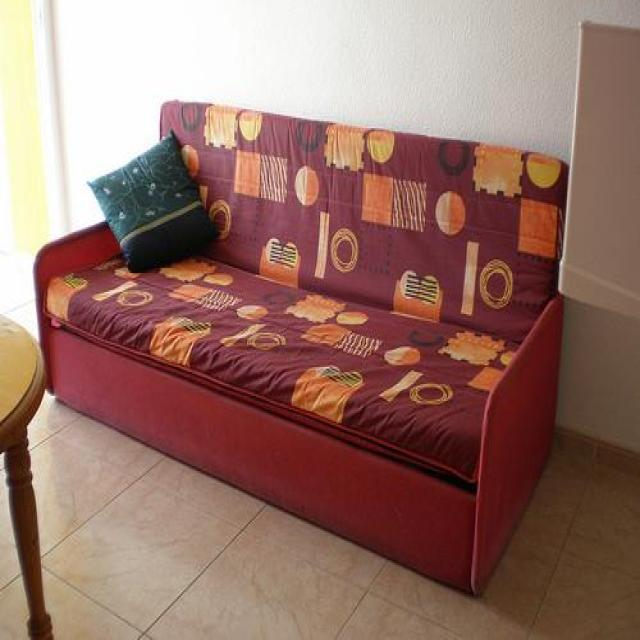sofa: (32, 93, 570, 599)
